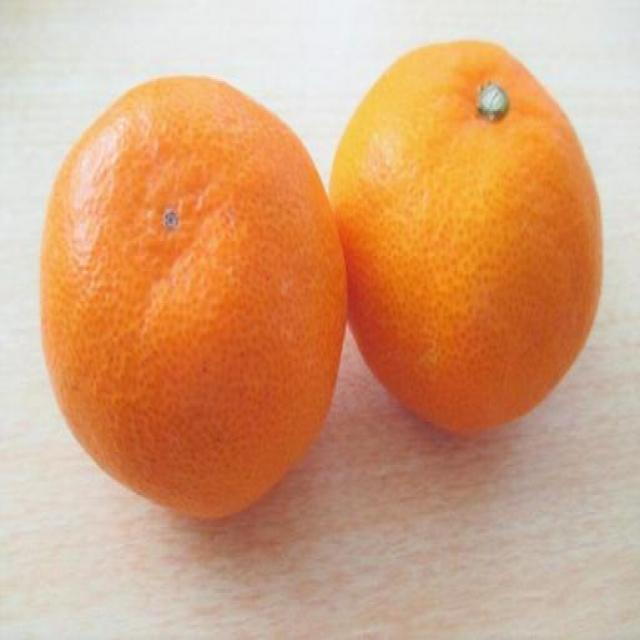Orange: (39, 71, 348, 526), (333, 34, 607, 439)
